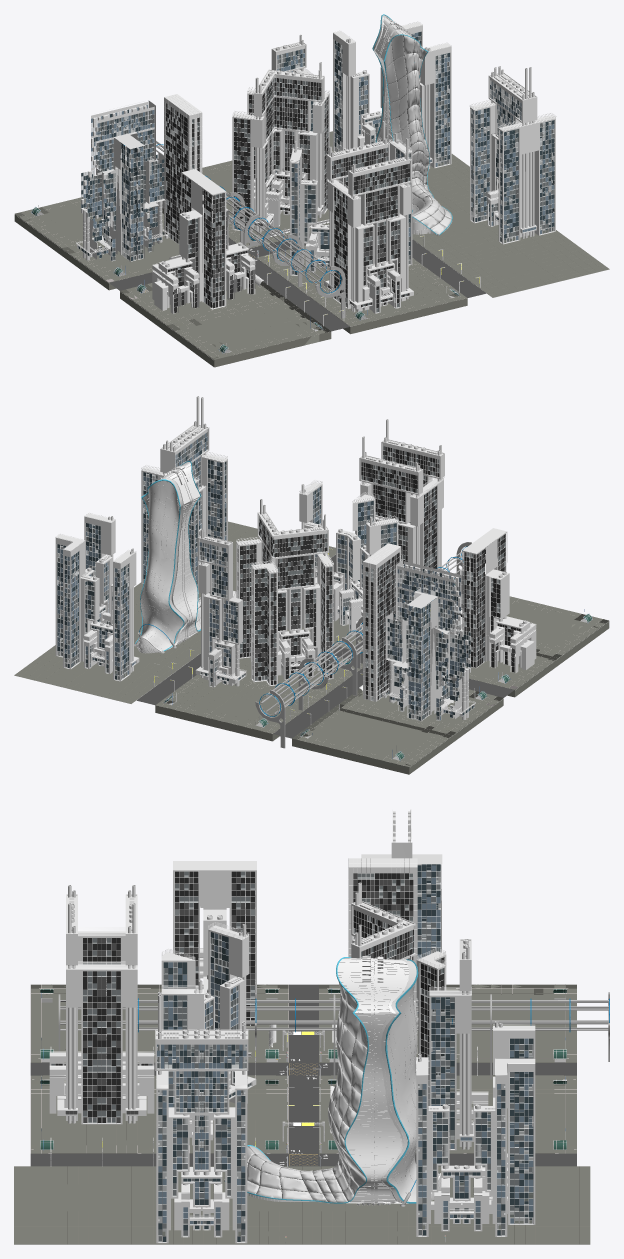
The model's file is future_city_final_optimized.glb.
The picture shows the model from 3 angles, top to bottom: view 1: azimuth 30°, elevation 25°; view 2: azimuth 150°, elevation 25°; view 3: azimuth 270°, elevation 25°; orthographic projection. The views are drawn at different scales.
Parts seen in each view (by area): view 1: Pavements015_11___Default_0_208_465, Pavements016_11___Default_0_36_93, Box23_w_0_537_1160, Box21_01___Default_0_596_1279, Box02_01___Default_0_730_1553, Pavements018_11___Default_0_4_18, Box489_01___Default_0_852_1801, Box19_01___Default_0_340_753, frame05_Material__82838965_0_886_1887, glass_glass_4b_0_749_1592, drape001_11___Default_0_450_975, Pavements017_11___Default_0_1_11 (+56 smaller); view 2: Pavements015_11___Default_0_208_465, Pavements016_11___Default_0_36_93, Box19_01___Default_0_340_753, glass_Material__827712455_0_456_991, Box02_01___Default_0_730_1553, glass_glass_4b_0_749_1592, Pavements06_11___Default_0_7_25, Box489_01___Default_0_852_1801, Box17_01___Default_0_656_1401, frame05_Material__82838965_0_886_1887, frame_Material__82838964_0_746_1585, Box488_01___Default_0_883_1878 (+60 smaller); view 3: Pavements016_11___Default_0_36_93, Pavements015_11___Default_0_208_465, Pavements018_11___Default_0_4_18, Box19_01___Default_0_340_753, Box23_w_0_537_1160, Box21_01___Default_0_596_1279, drape001_11___Default_0_450_975, Pavements06_11___Default_0_7_25, Object120_road_0_193_433, glass_Material__827712455_0_456_991, Pavements017_11___Default_0_1_11, Pavements07_11___Default_0_10_32 (+70 smaller).
Boxes of the visible parts, x1,y1,x2,y2 form: Pavements015_11___Default_0_208_465: (14, 195, 331, 367); Pavements016_11___Default_0_36_93: (202, 160, 467, 334); Box23_w_0_537_1160: (324, 141, 413, 313); Box21_01___Default_0_596_1279: (470, 72, 555, 244); Box02_01___Default_0_730_1553: (232, 69, 329, 231); Pavements018_11___Default_0_4_18: (446, 235, 609, 297); Box489_01___Default_0_852_1801: (152, 169, 255, 314); Box19_01___Default_0_340_753: (333, 21, 451, 168); frame05_Material__82838965_0_886_1887: (77, 102, 165, 261); glass_glass_4b_0_749_1592: (234, 78, 328, 229); drape001_11___Default_0_450_975: (403, 35, 451, 234); Pavements017_11___Default_0_1_11: (412, 200, 562, 263); Pavements015_11___Default_0_208_465: (292, 596, 609, 774); Pavements016_11___Default_0_36_93: (155, 583, 455, 741); Box19_01___Default_0_340_753: (55, 513, 139, 681); glass_Material__827712455_0_456_991: (136, 477, 186, 650); Box02_01___Default_0_730_1553: (236, 511, 333, 685); glass_glass_4b_0_749_1592: (237, 520, 331, 684); Pavements06_11___Default_0_7_25: (14, 640, 188, 703); Box489_01___Default_0_852_1801: (454, 528, 536, 673); Box17_01___Default_0_656_1401: (299, 482, 398, 634); frame05_Material__82838965_0_886_1887: (383, 561, 474, 720); frame_Material__82838964_0_746_1585: (240, 515, 332, 685); Box488_01___Default_0_883_1878: (386, 560, 462, 721); Pavements016_11___Default_0_36_93: (31, 1075, 576, 1153); Pavements015_11___Default_0_208_465: (31, 984, 576, 1062); Pavements018_11___Default_0_4_18: (14, 1166, 142, 1244); Box19_01___Default_0_340_753: (416, 1025, 535, 1236); Box23_w_0_537_1160: (49, 894, 154, 1124); Box21_01___Default_0_596_1279: (155, 1029, 248, 1243); drape001_11___Default_0_450_975: (247, 982, 367, 1202); Pavements06_11___Default_0_7_25: (431, 1166, 590, 1244); Object120_road_0_193_433: (30, 1075, 576, 1166); glass_Material__827712455_0_456_991: (381, 960, 439, 1201); Pavements017_11___Default_0_1_11: (143, 1166, 301, 1244); Pavements07_11___Default_0_10_32: (302, 1166, 431, 1244).
Size of the model in its own units: 6.92 by 3 by 6.7.
